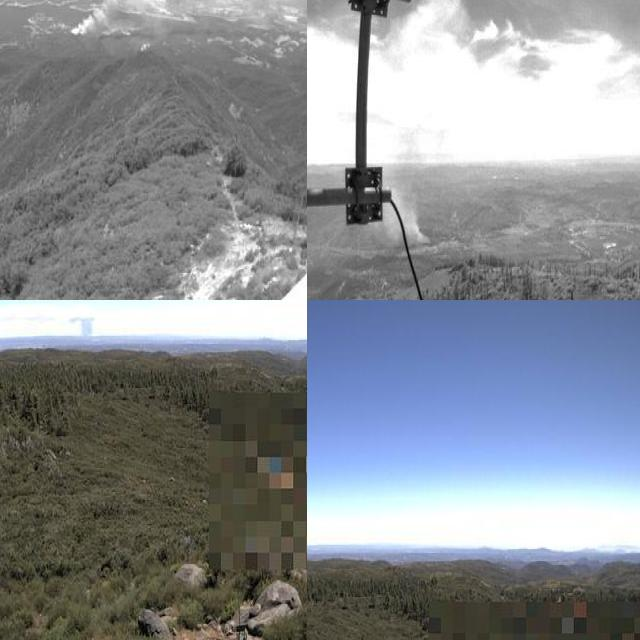smoke: (66, 0, 290, 38), (382, 138, 437, 250), (65, 313, 99, 339), (307, 524, 313, 554)
